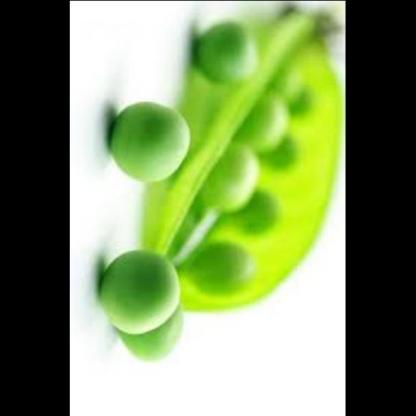peas: (187, 73, 312, 234), (84, 251, 187, 362), (106, 96, 202, 185), (198, 18, 271, 94), (189, 238, 264, 304)
